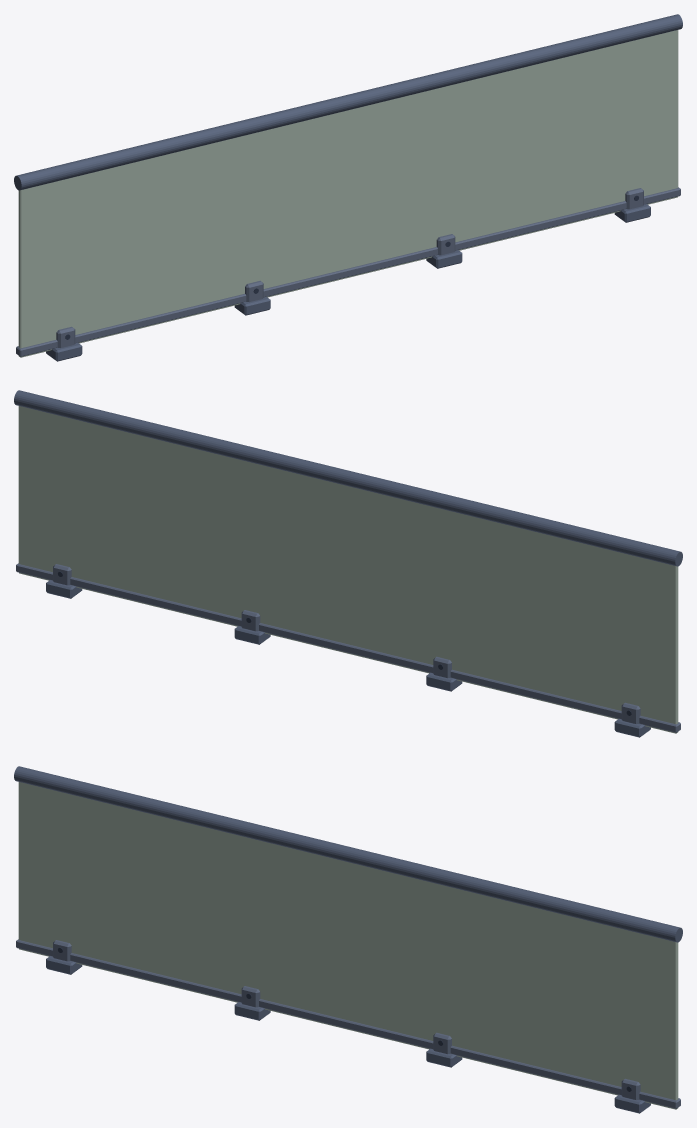
File: bw_glass_balustrade.glb
3 views of the same model, one above another, from view 1: azimuth 30°, elevation 25°; view 2: azimuth 150°, elevation 25°; view 3: azimuth 330°, elevation 25° (orthographic).
Parts seen in each view (by area): view 1: laminated_pane, handrail, clamp; view 2: laminated_pane, handrail, clamp; view 3: laminated_pane, handrail, clamp.
Part boxes in pixels (box(x1,y1,x2,y2)): laminated_pane: box(18, 30, 678, 357); handrail: box(14, 14, 682, 361); clamp: box(16, 187, 680, 356); laminated_pane: box(18, 406, 678, 733); handrail: box(14, 390, 682, 737); clamp: box(16, 563, 680, 732); laminated_pane: box(18, 782, 678, 1109); handrail: box(14, 766, 682, 1113); clamp: box(16, 939, 680, 1108).
Size of the model in its own units: 4 by 1.1 by 0.12.
